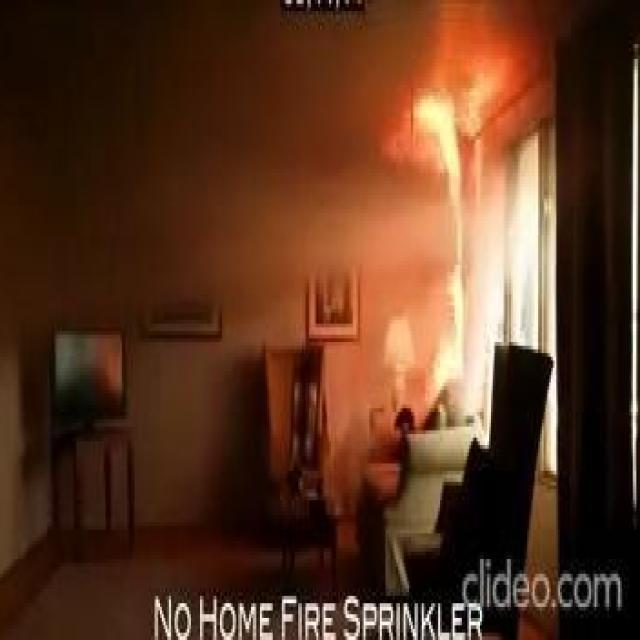smoke: (414, 88, 464, 386)
